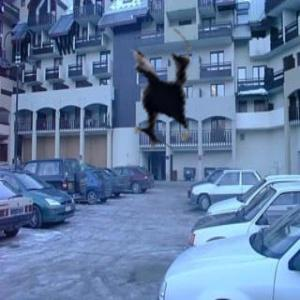drone: (85, 23, 234, 172)
